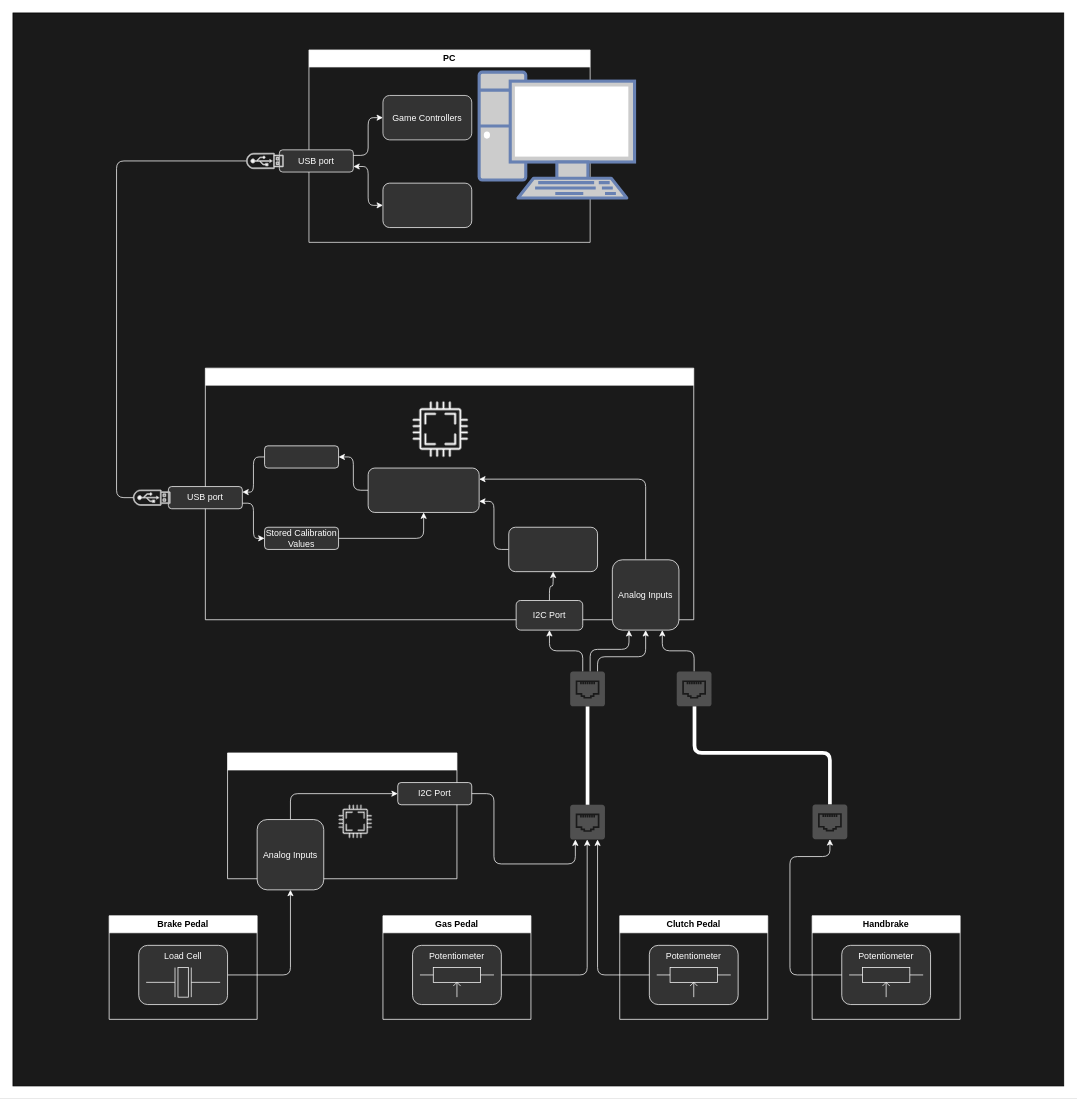
This 1077x1099 diagram has some shape labels left out. The shapes that lost their labels are listed below. From the top down, each one's box as (x1, y1, x2, y2) in pixels, then its label:
(382, 182, 472, 228): Calibration SW
(264, 445, 339, 468): Joystick Library
(367, 467, 479, 512): Signal Processing Signal Filtering Signal Mapping
(205, 367, 694, 620): Arduino
(508, 527, 598, 572): HX711 Library
(227, 752, 457, 879): HX711 Load Cell Amplifier 24-Bit
